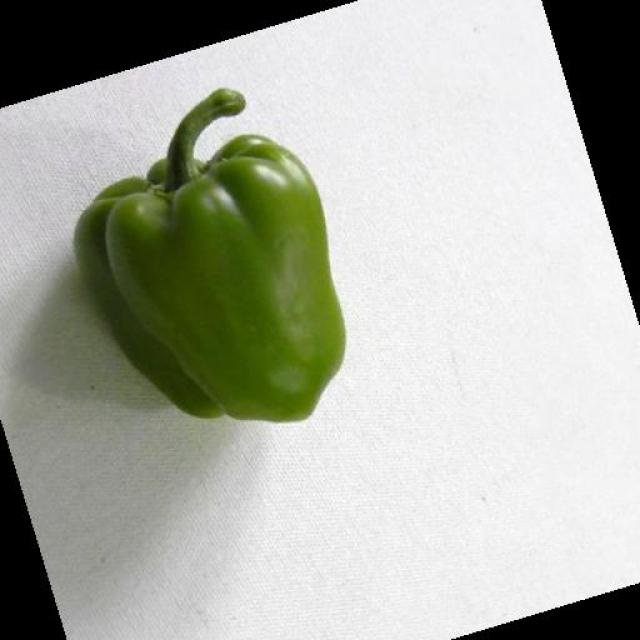Fresh_Capsicum: (68, 95, 367, 423)
